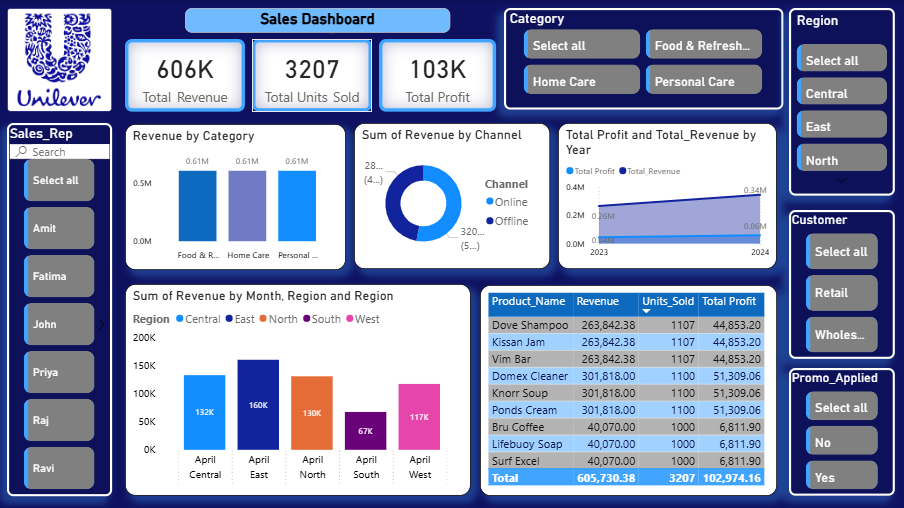

This screenshot's page, from the dashboard's own definition file:
{"tool":"powerbi","page":{"name":"Page 1","canvas":[1280,720],"ordinal":0},"visuals":[{"type":"image","box":[9.9,11.3,148.8,147.4],"z":0},{"type":"card","fields":{"Values":["Fact_Sales.TOTAL_Revenue"]},"box":[177.2,55.3,170.1,103.5],"z":1000},{"type":"card","fields":{"Values":["Fact_Sales.Units_Sold"]},"box":[357.2,55.3,170.1,103.5],"z":2000},{"type":"card","fields":{"Values":["Fact_Sales.Total Profit"]},"box":[537.2,55.3,165.8,103.5],"z":3000},{"type":"columnChart","fields":{"Category":["Dim_Product.Category"],"Y":["Fact_Sales.Revenue"]},"box":[177.1,175.7,312.9,207.1],"z":4000},{"type":"columnChart","fields":{"Category":["Fact_Sales.Date.Variation.Date Hierarchy.Month","Fact_Sales.Region"],"Series":["Fact_Sales.Region"],"Y":["Fact_Sales.Revenue"]},"box":[177.1,402.9,490,300],"z":5000},{"type":"donutChart","fields":{"Category":["Fact_Sales.Channel"],"Y":["Fact_Sales.Revenue"]},"box":[501.7,174.3,277.8,206.9],"z":6000},{"type":"tableEx","fields":{"Values":["Dim_Product.Product_Name","Fact_Sales.Revenue","Fact_Sales.Units_Sold","Fact_Sales.Total Profit"]},"box":[680,404.3,421.4,298.6],"z":7000},{"type":"advancedSlicerVisual","fields":{"Values":["Dim_Product.Category"]},"box":[714.3,11.4,395.7,144.3],"z":8000},{"type":"advancedSlicerVisual","fields":{"Values":["Fact_Sales.Region"]},"box":[1118.6,11.4,150,265.7],"z":9000},{"type":"advancedSlicerVisual","fields":{"Values":["Dim_Customer.Sales_Rep"]},"box":[10,174.3,148.6,528.6],"z":10000},{"type":"advancedSlicerVisual","title":"Customer","fields":{"Values":["Dim_Customer.Customer_Type"]},"box":[1118.3,297.6,150.2,211.2],"z":11000},{"type":"advancedSlicerVisual","fields":{"Values":["Fact_Sales.Promo_Applied"]},"box":[1118.3,521.6,150.2,181.4],"z":12000},{"type":"areaChart","fields":{"Category":["Fact_Sales.Date.Variation.Date Hierarchy.Year","Fact_Sales.Date.Variation.Date Hierarchy.Quarter","Fact_Sales.Date.Variation.Date Hierarchy.Month"],"Y":["Fact_Sales.Total Profit","Fact_Sales.TOTAL_Revenue"]},"box":[790.9,174.3,310.4,206.9],"z":13000},{"type":"actionButton","box":[0,0,100,40],"z":14000},{"type":"textbox","box":[262.2,11.3,375.6,35.4],"z":16000}]}

Visuals, with their boxes in screenshot pixels (x1, y1, x2, y2), scaled from the page's 1280x720 canvas onto the 904x508 screenshot:
image: x1=7 y1=8 x2=112 y2=112
card - Fact_Sales.TOTAL_Revenue: x1=125 y1=39 x2=245 y2=112
card - Fact_Sales.Units_Sold: x1=252 y1=39 x2=372 y2=112
card - Fact_Sales.Total Profit: x1=379 y1=39 x2=496 y2=112
columnChart - Dim_Product.Category x Fact_Sales.Revenue: x1=125 y1=124 x2=346 y2=270
columnChart - Fact_Sales.Date.Variation.Date Hierarchy.Month x Fact_Sales.Region: x1=125 y1=284 x2=471 y2=496
donutChart - Fact_Sales.Channel x Fact_Sales.Revenue: x1=354 y1=123 x2=551 y2=269
tableEx - Dim_Product.Product_Name x Fact_Sales.Revenue: x1=480 y1=285 x2=778 y2=496
advancedSlicerVisual - Dim_Product.Category: x1=504 y1=8 x2=784 y2=110
advancedSlicerVisual - Fact_Sales.Region: x1=790 y1=8 x2=896 y2=196
advancedSlicerVisual - Dim_Customer.Sales_Rep: x1=7 y1=123 x2=112 y2=496
"Customer" advancedSlicerVisual: x1=790 y1=210 x2=896 y2=359
advancedSlicerVisual - Fact_Sales.Promo_Applied: x1=790 y1=368 x2=896 y2=496
areaChart - Fact_Sales.Date.Variation.Date Hierarchy.Year x Fact_Sales.Date.Variation.Date Hierarchy.Quarter: x1=559 y1=123 x2=778 y2=269
actionButton: x1=0 y1=0 x2=71 y2=28
textbox: x1=185 y1=8 x2=450 y2=33
